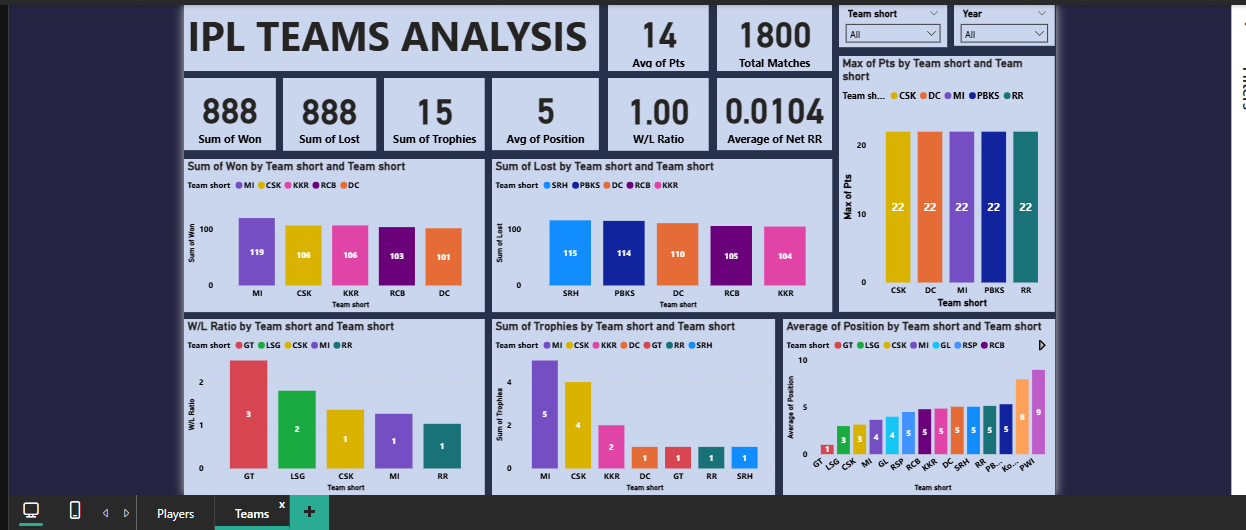

What the dashboard file says about the page in this screenshot:
{"tool":"powerbi","page":{"name":"Teams","canvas":[1280,720],"ordinal":1},"visuals":[{"type":"textbox","box":[0,0,609.8,97],"z":0},{"type":"card","fields":{"Values":["Sum(IPL Points table.Won)"]},"box":[0,107.3,135.2,105.8],"z":1000},{"type":"card","fields":{"Values":["Sum(IPL Points table.Lost)"]},"box":[145.5,107.3,136.7,107.3],"z":2000},{"type":"card","fields":{"Values":["Sum(IPL Points table.Trophies)"]},"box":[293.9,107.3,148.4,107.3],"z":3000},{"type":"card","fields":{"Values":["Avg(IPL Points table.Position)"]},"box":[452.6,107.3,157.2,105.8],"z":4000},{"type":"card","fields":{"Values":["Avg(IPL Points table.Pts)"]},"box":[623,0,148.4,97],"z":5000},{"type":"slicer","fields":{"Values":["IPL Points table.Team short"]},"box":[962.4,0,158.7,61.7],"z":6000},{"type":"slicer","fields":{"Values":["IPL Points table.Year"]},"box":[1131.4,0,148.4,60.2],"z":7000},{"type":"card","fields":{"Values":["IPL Points table.W/L Ratio"]},"box":[623,107.3,148.4,107.3],"z":8000},{"type":"columnChart","fields":{"Category":["IPL Points table.Team short"],"Y":["Sum(IPL Points table.Won)"],"Series":["IPL Points table.Team short"]},"box":[0,226.3,442.3,224.8],"z":9000},{"type":"columnChart","fields":{"Category":["IPL Points table.Team short"],"Series":["IPL Points table.Team short"],"Y":["Sum(IPL Points table.Lost)"]},"box":[452.6,226.3,499.6,224.8],"z":10000},{"type":"card","fields":{"Values":["Sum(IPL Points table.Pld)"]},"box":[783.2,0,169,97],"z":11000},{"type":"card","fields":{"Values":["Avg(IPL Points table.Net RR)"]},"box":[783.2,107.3,169,105.8],"z":12000},{"type":"columnChart","fields":{"Category":["IPL Points table.Team short"],"Series":["IPL Points table.Team short"],"Y":["IPL Points table.W/L Ratio"]},"box":[0,461.4,442.3,258.6],"z":13000},{"type":"columnChart","fields":{"Category":["IPL Points table.Team short"],"Series":["IPL Points table.Team short"],"Y":["Avg(IPL Points table.Position)"]},"box":[880.2,461.4,399.7,258.6],"z":14000},{"type":"columnChart","fields":{"Category":["IPL Points table.Team short"],"Series":["IPL Points table.Team short"],"Y":["Max(IPL Points table.Pts)"]},"box":[962.4,74.9,317.4,376.2],"z":15000},{"type":"columnChart","fields":{"Category":["IPL Points table.Team short"],"Series":["IPL Points table.Team short"],"Y":["Sum(IPL Points table.Trophies)"]},"box":[452.6,461.4,415.8,258.6],"z":16000}]}

Visuals, with their boxes on the page's 1280x720 design canvas (x1, y1, x2, y2). These are canvas units, not pixel positions in the 1246x530 screenshot, which may show the page scaled, cropped or inside an application window:
textbox: locate(0, 0, 610, 97)
card - Sum(IPL Points table.Won): locate(0, 107, 135, 213)
card - Sum(IPL Points table.Lost): locate(146, 107, 282, 215)
card - Sum(IPL Points table.Trophies): locate(294, 107, 442, 215)
card - Avg(IPL Points table.Position): locate(453, 107, 610, 213)
card - Avg(IPL Points table.Pts): locate(623, 0, 771, 97)
slicer - IPL Points table.Team short: locate(962, 0, 1121, 62)
slicer - IPL Points table.Year: locate(1131, 0, 1280, 60)
card - IPL Points table.W/L Ratio: locate(623, 107, 771, 215)
columnChart - IPL Points table.Team short x Sum(IPL Points table.Won): locate(0, 226, 442, 451)
columnChart - IPL Points table.Team short x IPL Points table.Team short: locate(453, 226, 952, 451)
card - Sum(IPL Points table.Pld): locate(783, 0, 952, 97)
card - Avg(IPL Points table.Net RR): locate(783, 107, 952, 213)
columnChart - IPL Points table.Team short x IPL Points table.Team short: locate(0, 461, 442, 720)
columnChart - IPL Points table.Team short x IPL Points table.Team short: locate(880, 461, 1280, 720)
columnChart - IPL Points table.Team short x IPL Points table.Team short: locate(962, 75, 1280, 451)
columnChart - IPL Points table.Team short x IPL Points table.Team short: locate(453, 461, 868, 720)
